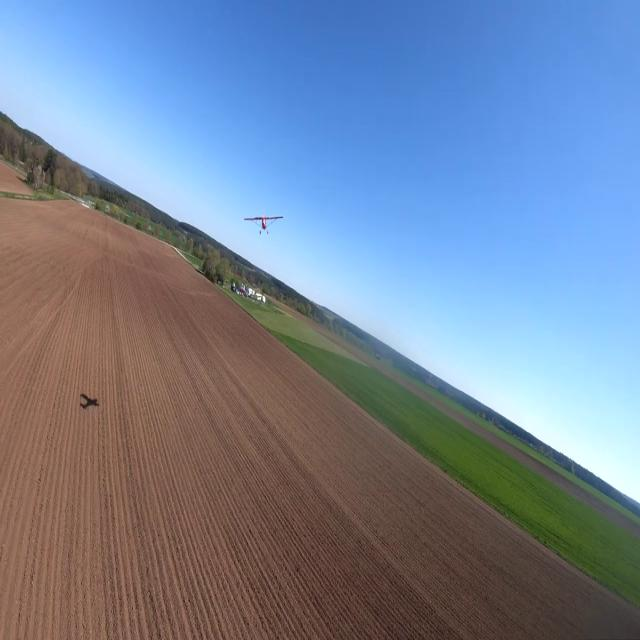iha: (237, 210, 278, 234)
